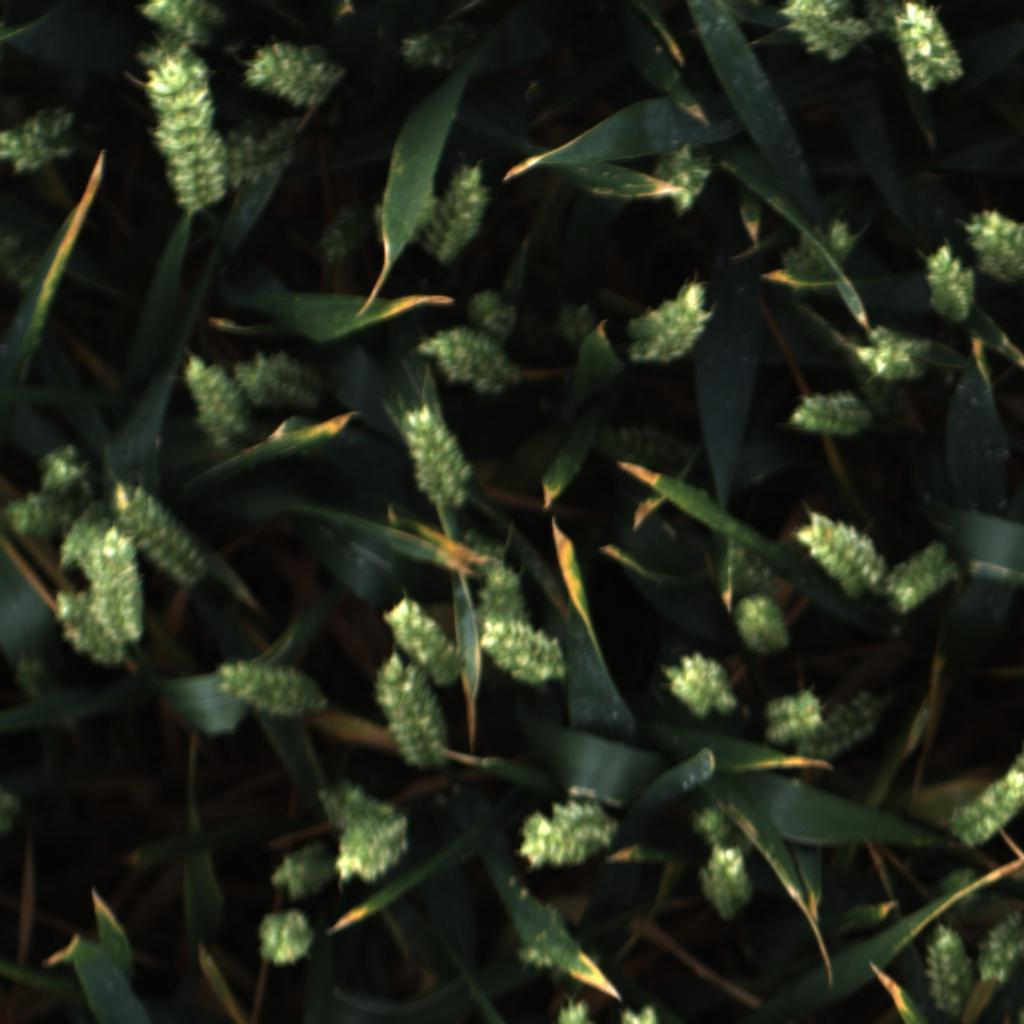0-0: (131, 40, 234, 215), (107, 476, 217, 591), (371, 652, 460, 776), (392, 400, 475, 512), (208, 652, 334, 724), (623, 274, 718, 368), (411, 162, 496, 267), (379, 590, 468, 690), (793, 504, 886, 598), (73, 529, 153, 638), (512, 793, 621, 872), (240, 36, 351, 108), (178, 347, 250, 453), (415, 331, 525, 400), (890, 2, 968, 95), (807, 686, 892, 770), (941, 768, 1024, 852), (590, 419, 700, 480), (231, 344, 327, 413), (918, 914, 977, 1020), (327, 815, 415, 885), (881, 539, 961, 616), (782, 211, 861, 288), (772, 0, 870, 62), (912, 242, 985, 325), (660, 649, 737, 727), (220, 118, 304, 189), (694, 840, 763, 926), (704, 535, 784, 609), (46, 588, 119, 667), (0, 105, 79, 176), (312, 776, 400, 839), (850, 319, 932, 385), (959, 194, 1024, 277), (478, 625, 564, 687), (722, 587, 795, 660), (785, 385, 875, 443), (42, 500, 111, 575), (754, 683, 827, 752), (252, 903, 319, 977), (134, 0, 229, 52), (506, 897, 571, 973), (265, 835, 334, 902), (470, 566, 531, 640), (973, 904, 1024, 987), (394, 23, 471, 75), (314, 200, 377, 263), (463, 279, 530, 337), (5, 485, 72, 541), (30, 435, 88, 496), (655, 144, 713, 202), (687, 800, 739, 848), (861, 0, 918, 35), (553, 300, 598, 344), (616, 998, 662, 1024), (552, 997, 594, 1024)
